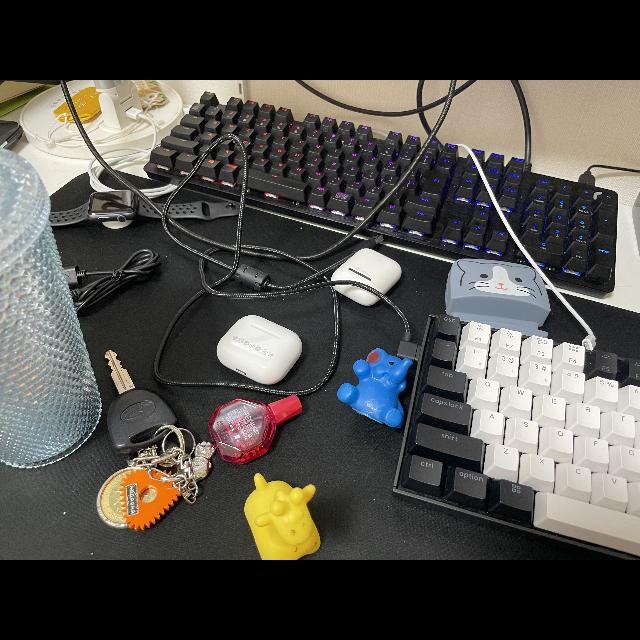airpod2: (324, 239, 404, 305)
airpod3: (210, 308, 306, 384)
